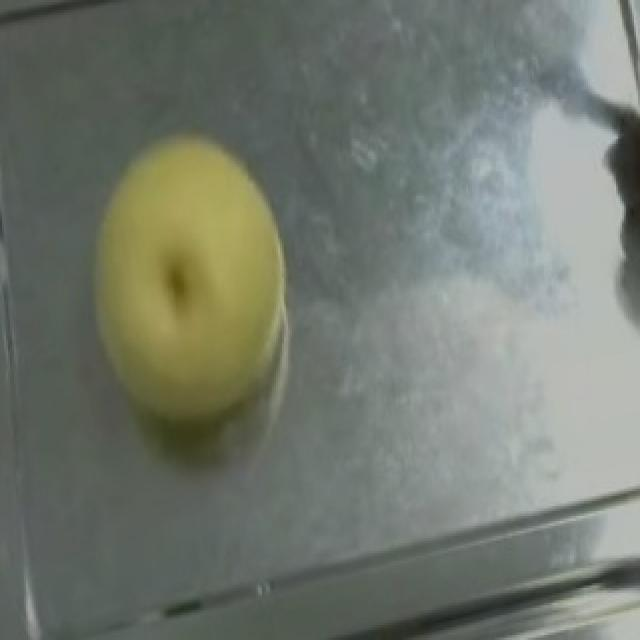Fruit: (58, 106, 320, 446)
